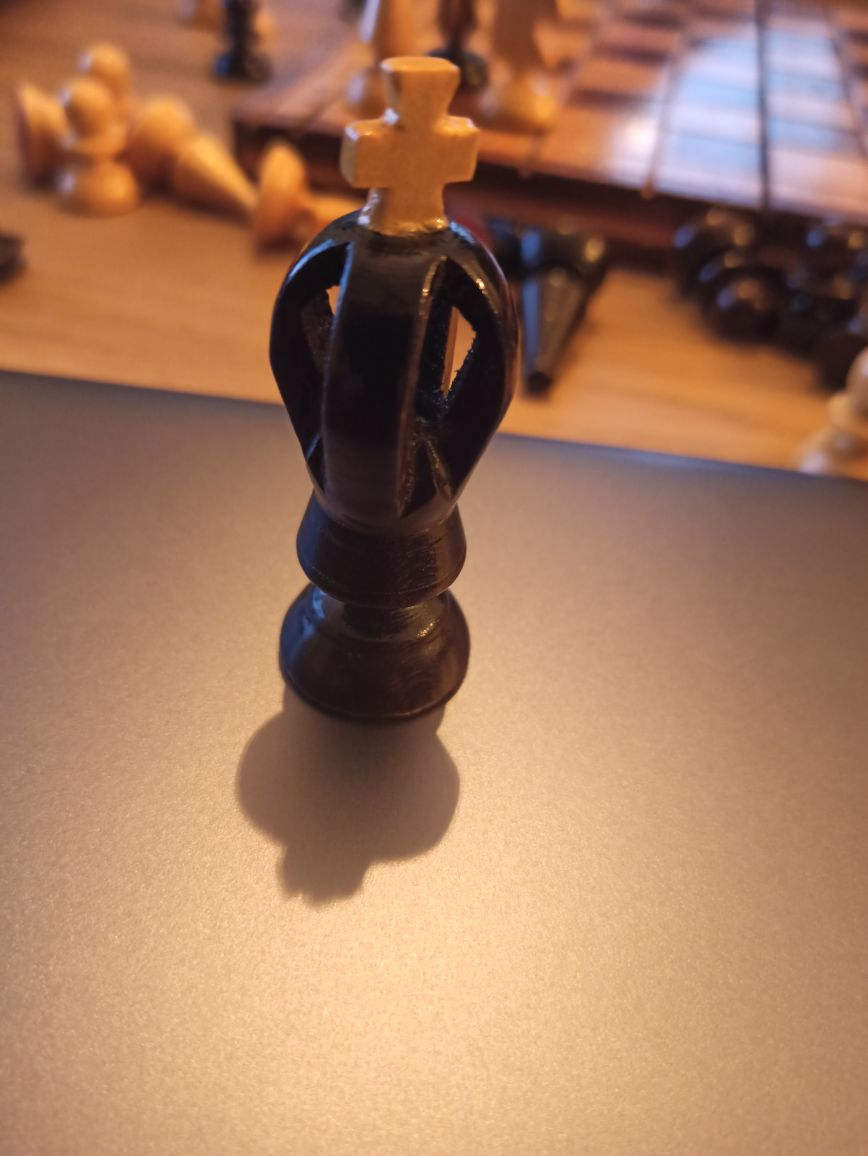bking: (265, 54, 519, 726)
